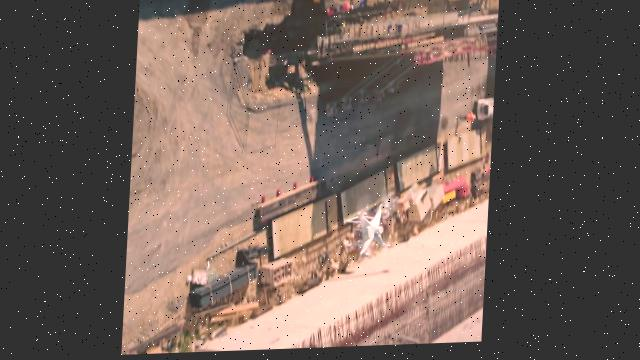drone: (352, 199, 398, 266)
